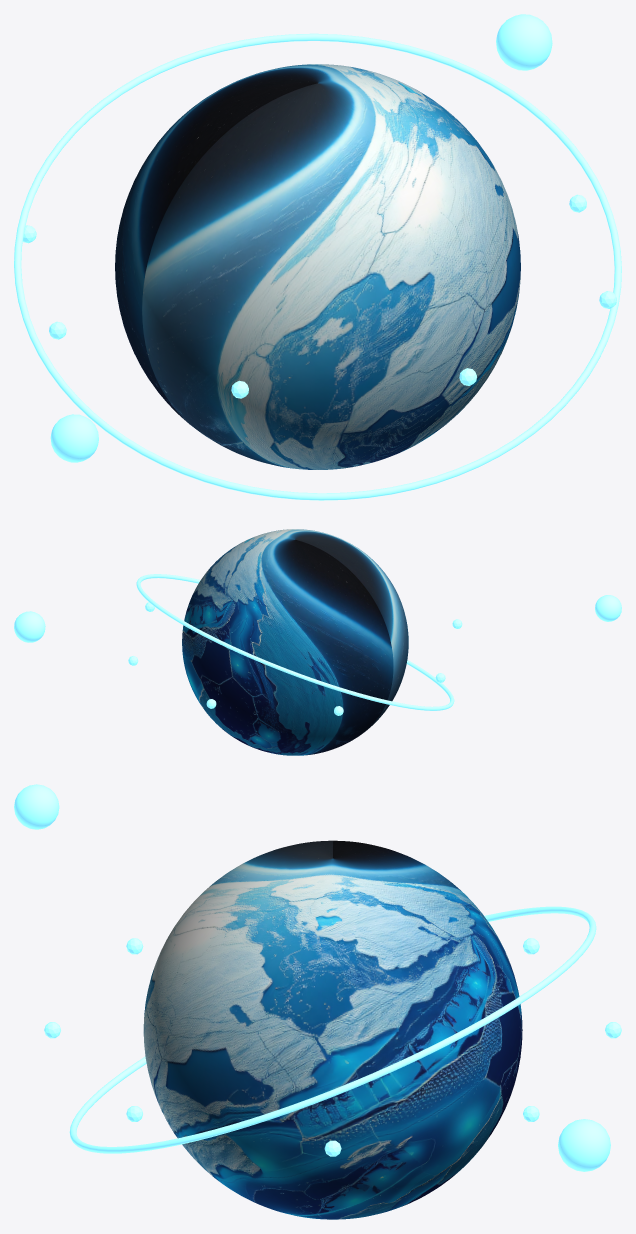
File: aethelgard.glb
3 views of the same model, one above another, from view 1: azimuth 30°, elevation 25°; view 2: azimuth 150°, elevation 25°; view 3: azimuth 270°, elevation 25° (orthographic). The views are drawn at different scales.
Parts seen in each view (by area): view 1: Planet_aethelgard, OrbitalRing_aethelgard, Moon_0, Moon_1; view 2: Planet_aethelgard, OrbitalRing_aethelgard, Moon_0, Moon_1; view 3: Planet_aethelgard, OrbitalRing_aethelgard, Moon_0, Moon_1.
Boxes of the visible parts, x1,y1,x2,y2 form: Planet_aethelgard: (115,64,520,469); OrbitalRing_aethelgard: (14,33,621,500); Moon_0: (496,14,552,70); Moon_1: (50,414,98,462); Planet_aethelgard: (182,529,408,755); OrbitalRing_aethelgard: (136,574,454,710); Moon_0: (14,611,45,642); Moon_1: (595,595,621,621); Planet_aethelgard: (143,840,522,1219); OrbitalRing_aethelgard: (69,906,596,1153); Moon_0: (558,1119,610,1171); Moon_1: (14,784,59,829).
Bounding box in the file's own units: 4.49 × 2 × 3.21.
2 materials, 1 textured.
